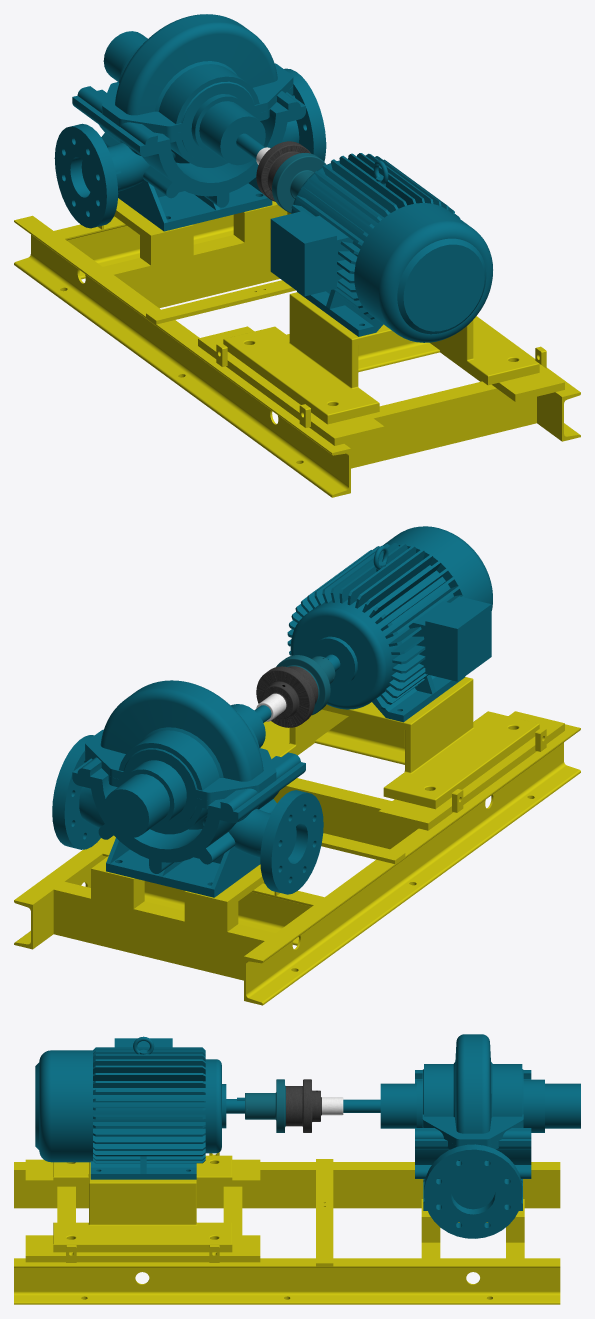
3 views of the same model, one above another, from view 1: azimuth 30°, elevation 25°; view 2: azimuth 150°, elevation 25°; view 3: azimuth 270°, elevation 25° (orthographic). The views are drawn at different scales.
Visible parts, largest first — view 1: cast carbon steel, carbon steel, matte steel, wrought steel; view 2: cast carbon steel, carbon steel, wrought steel, matte steel; view 3: carbon steel, cast carbon steel, wrought steel, matte steel, polished aluminum.
Boxes of the visible parts, x1,y1,x2,y2 form: cast carbon steel: (54,14,492,342); carbon steel: (14,198,580,497); matte steel: (272,153,326,212); wrought steel: (256,141,310,201); cast carbon steel: (52,526,492,897); carbon steel: (14,677,580,1005); wrought steel: (256,666,318,727); matte steel: (276,655,335,715); carbon steel: (14,1152,560,1304); cast carbon steel: (35,1034,580,1238); wrought steel: (286,1079,321,1132); matte steel: (245,1079,285,1132); polished aluminum: (322,1097,343,1115).
Size of the model in its own units: 70 by 67.48 by 161.
Materials: 6 (2 with a texture image).
